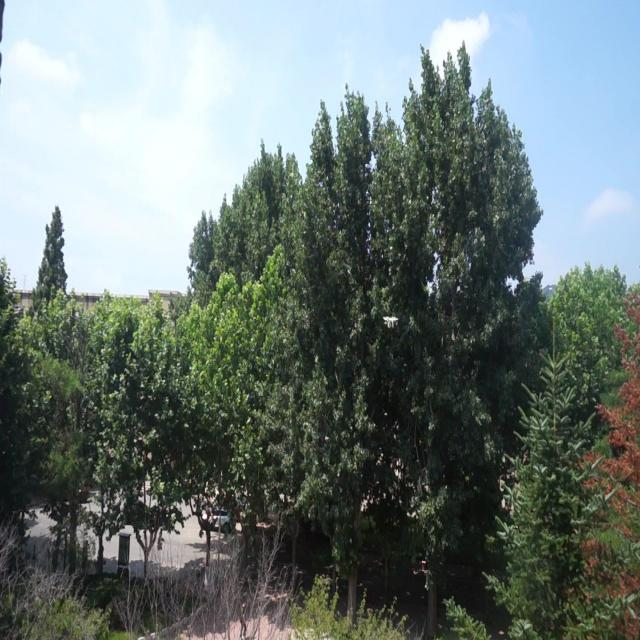UAV: (383, 316, 398, 328)
